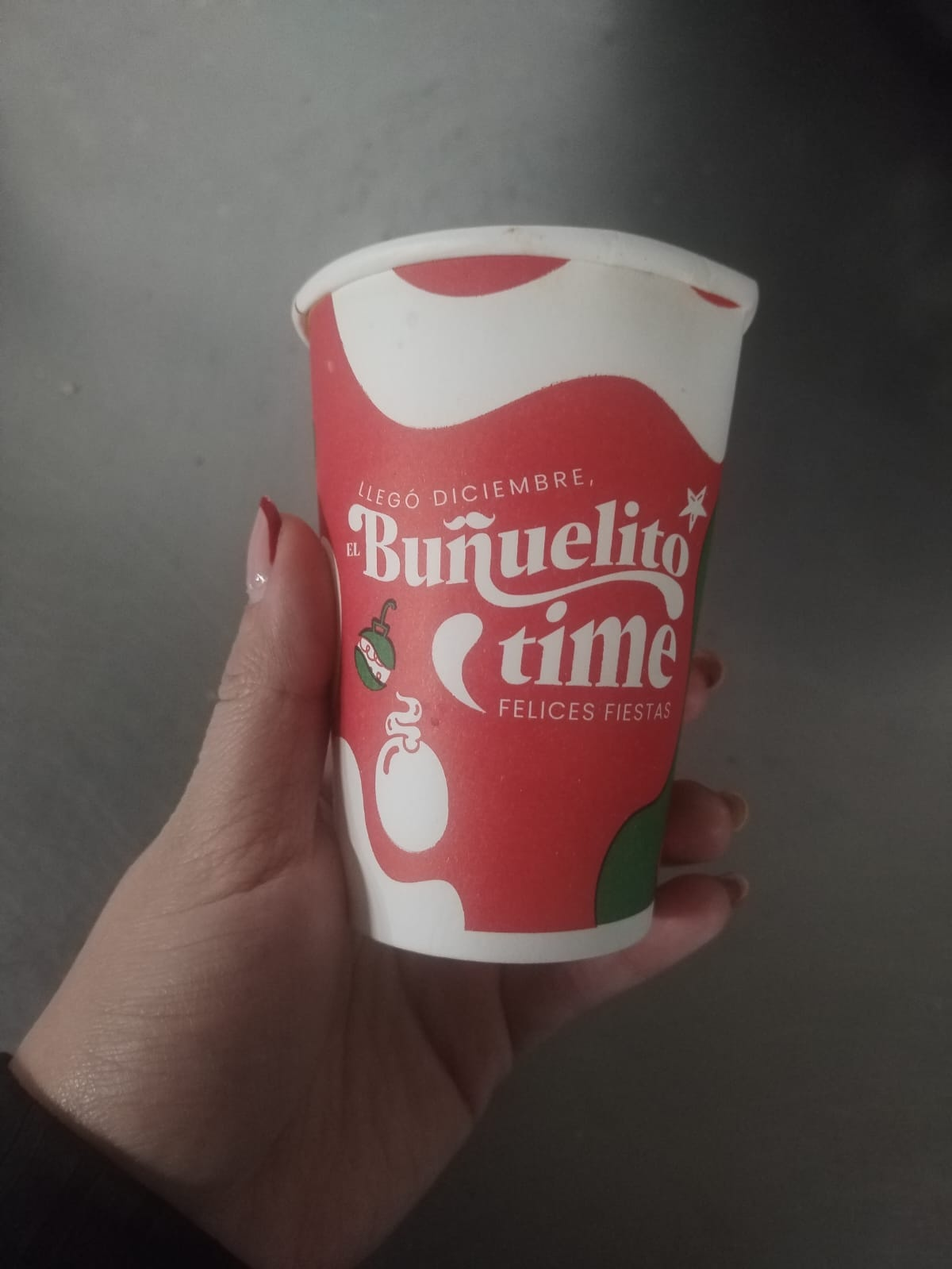Carton: (292, 221, 761, 966)
